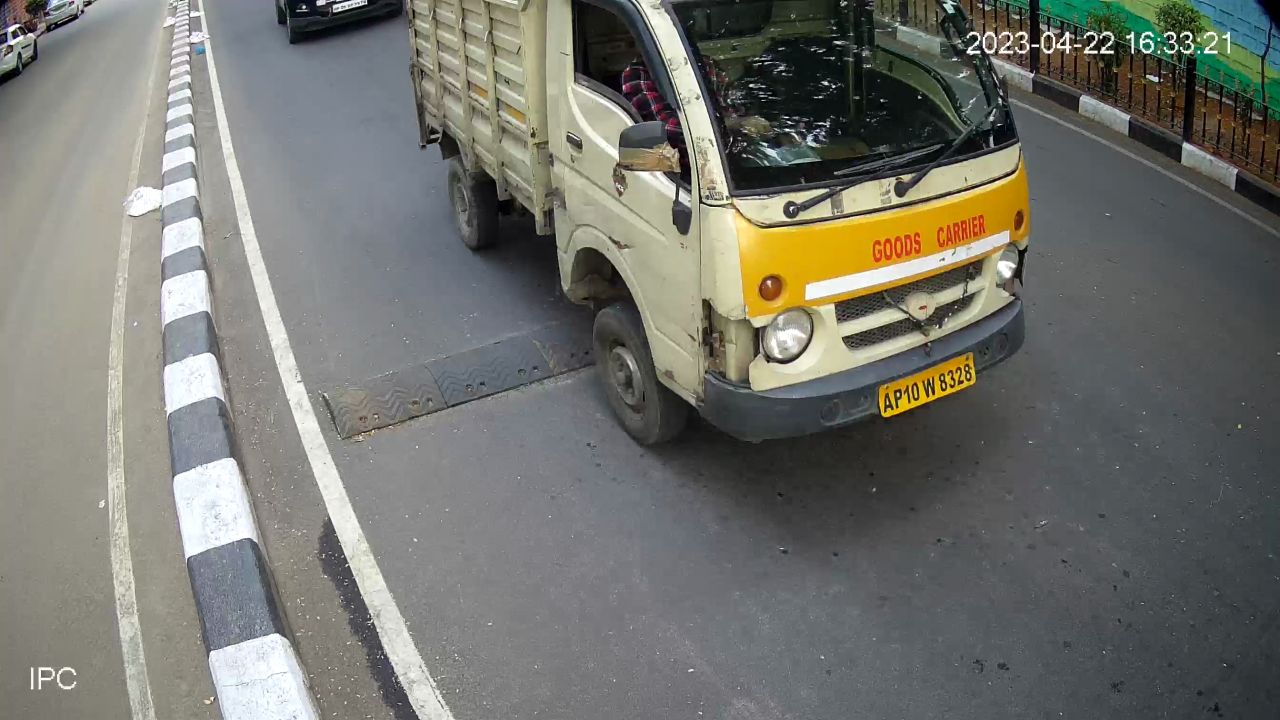license_plate: (872, 347, 979, 426)
